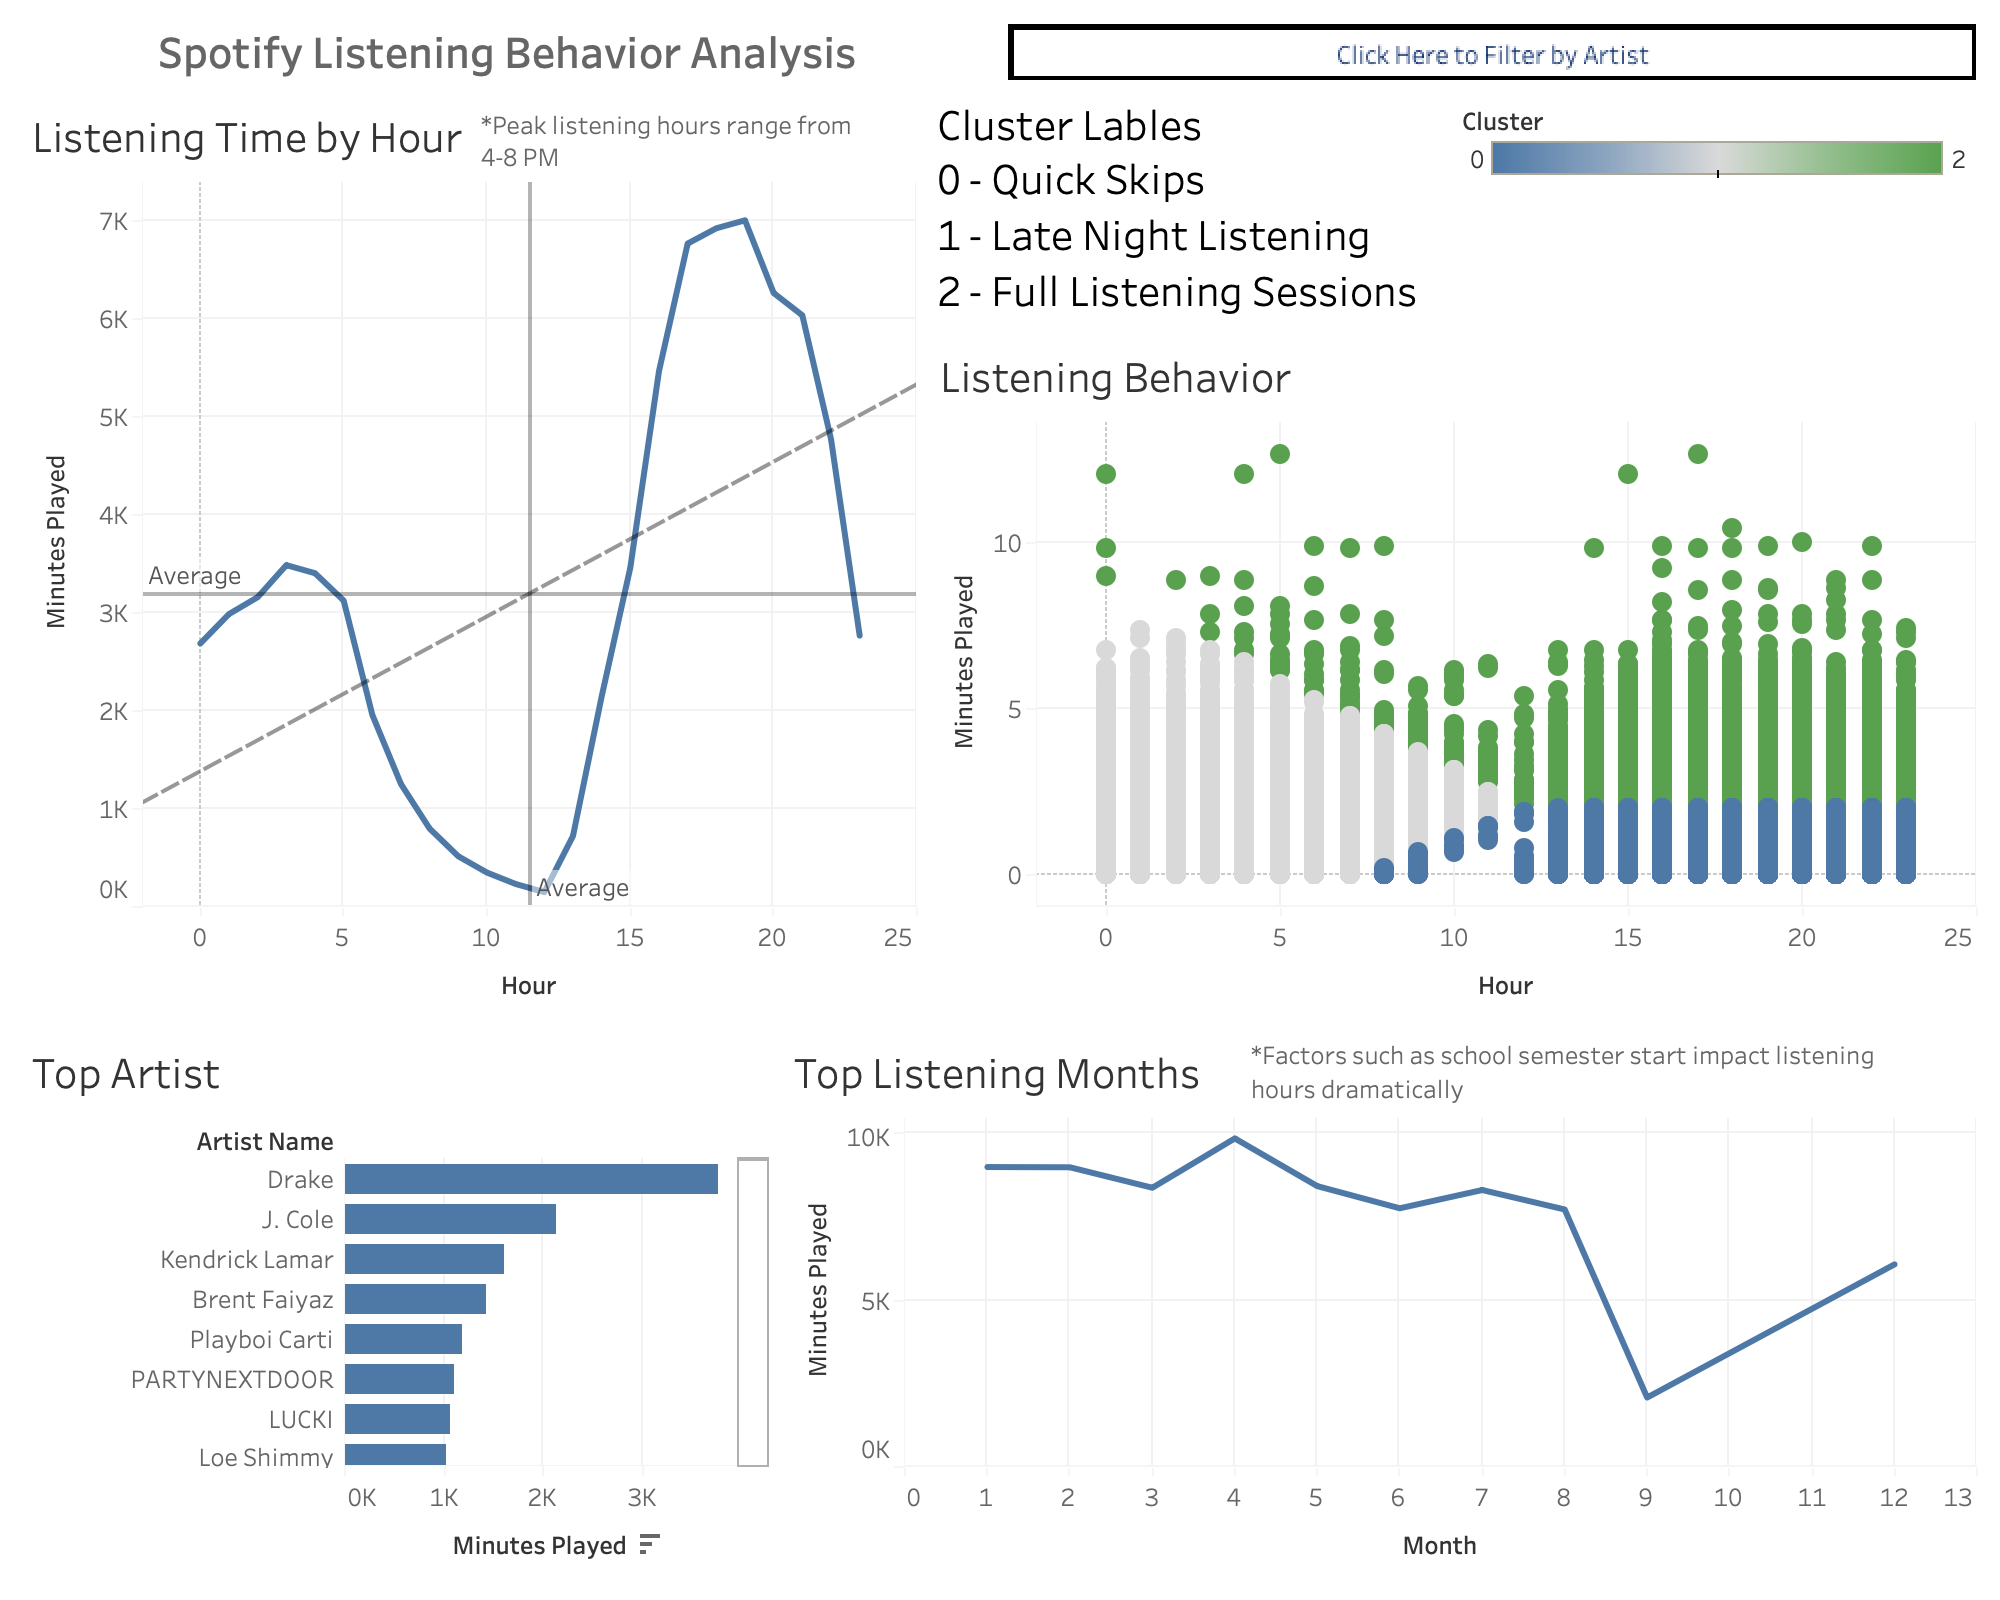

The page's visual inventory and layout, read from the dashboard file:
{"tool":"tableau","page":{"name":"Spotify Listening Behavior Analysis","canvas":[1000,800],"ordinal":1},"visuals":[{"type":"text","box":[8,8,492,36]},{"type":"dashboard-object","param":"[com.tableau.addfilters].[0.0.0].[https://extensions.tableauusercontent.com/sand","box":[500,8,492,36]},{"type":"worksheet","title":"Top Listening Hours","mark":"Line","rows":["minutes_played"],"cols":["hour"],"box":[8,44,453.8,467.5]},{"type":"text","box":[461.8,44,265.1,120]},{"type":"legend","title":"Listening Behavior","param":"[federated.1iitjf30ic32190zq8p5r000ncqe].[none:cluster:qk]","box":[726.9,44,265.1,120]},{"type":"text","box":[238,49,203,43]},{"type":"worksheet","title":"Listening Behavior","mark":"Circle","rows":["minutes_played"],"cols":["hour"],"box":[461.8,164,530.2,347.5]},{"type":"worksheet","title":"Top Artist","mark":"Automatic","rows":["artist_name"],"cols":["minutes_played"],"box":[8,511.5,381,280.5]},{"type":"worksheet","title":"Top Listening Months","mark":"Automatic","rows":["minutes_played"],"cols":["month"],"box":[389,511.5,603,280.5]},{"type":"text","box":[623,519,333,34]}]}

Visuals, with their boxes in screenshot pixels (x1, y1, x2, y2), scaled from the page's 1000x800 canvas onto the 2000x1600 screenshot:
text: left=16, top=16, right=1000, bottom=88
dashboard-object: left=1000, top=16, right=1984, bottom=88
"Top Listening Hours" worksheet (Line marks): left=16, top=88, right=924, bottom=1023
text: left=924, top=88, right=1454, bottom=328
"Listening Behavior" legend: left=1454, top=88, right=1984, bottom=328
text: left=476, top=98, right=882, bottom=184
"Listening Behavior" worksheet (Circle marks): left=924, top=328, right=1984, bottom=1023
"Top Artist" worksheet: left=16, top=1023, right=778, bottom=1584
"Top Listening Months" worksheet: left=778, top=1023, right=1984, bottom=1584
text: left=1246, top=1038, right=1912, bottom=1106
